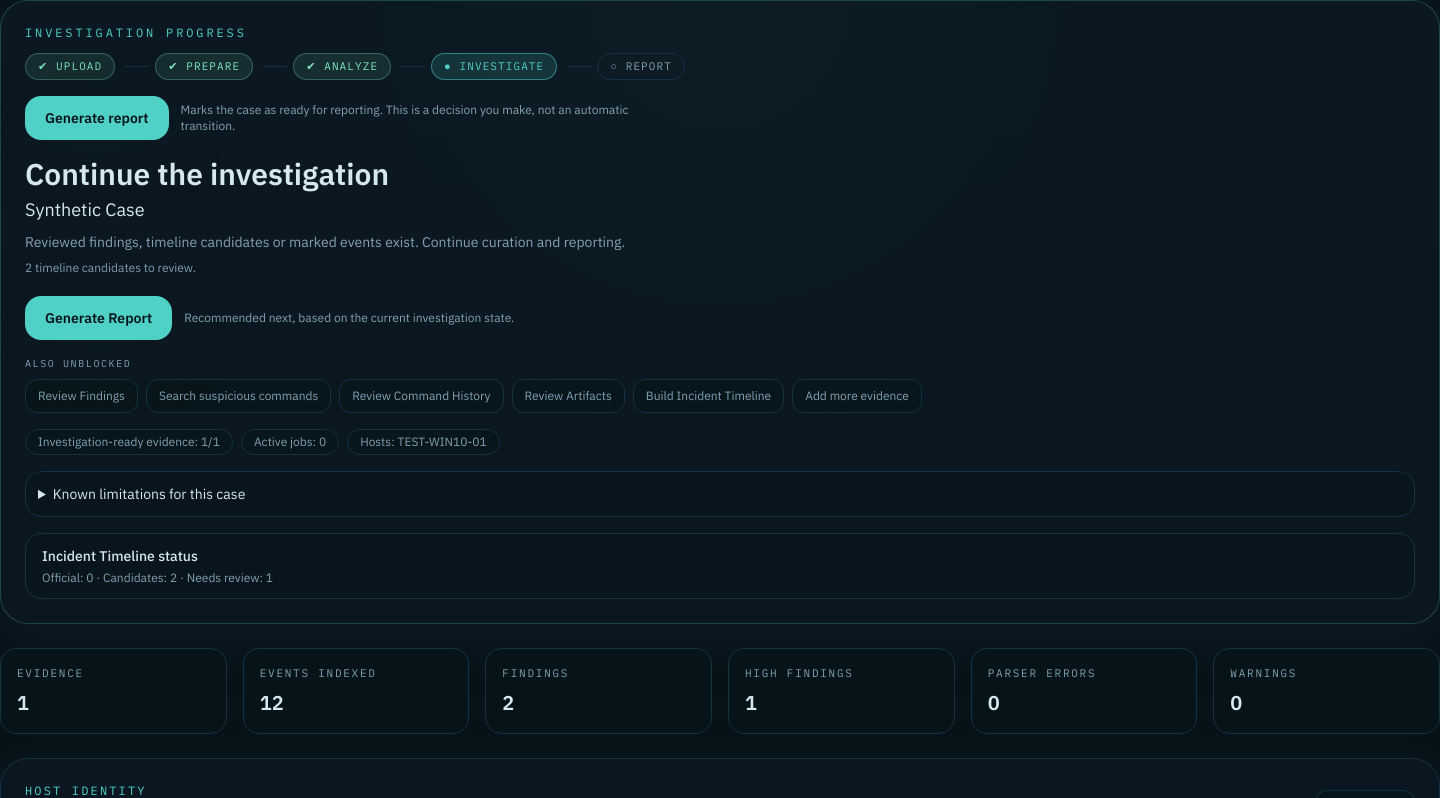
Scenario: CaseOverviewPage › manual INVESTIGATE / REPORT workflow actions › transitions Investigate to Report: persists the override, refetches and updates the stage rail
Click the button with test id "generate-report-action". click: (97, 118)
box: x1=25 y1=96 x2=169 y2=140
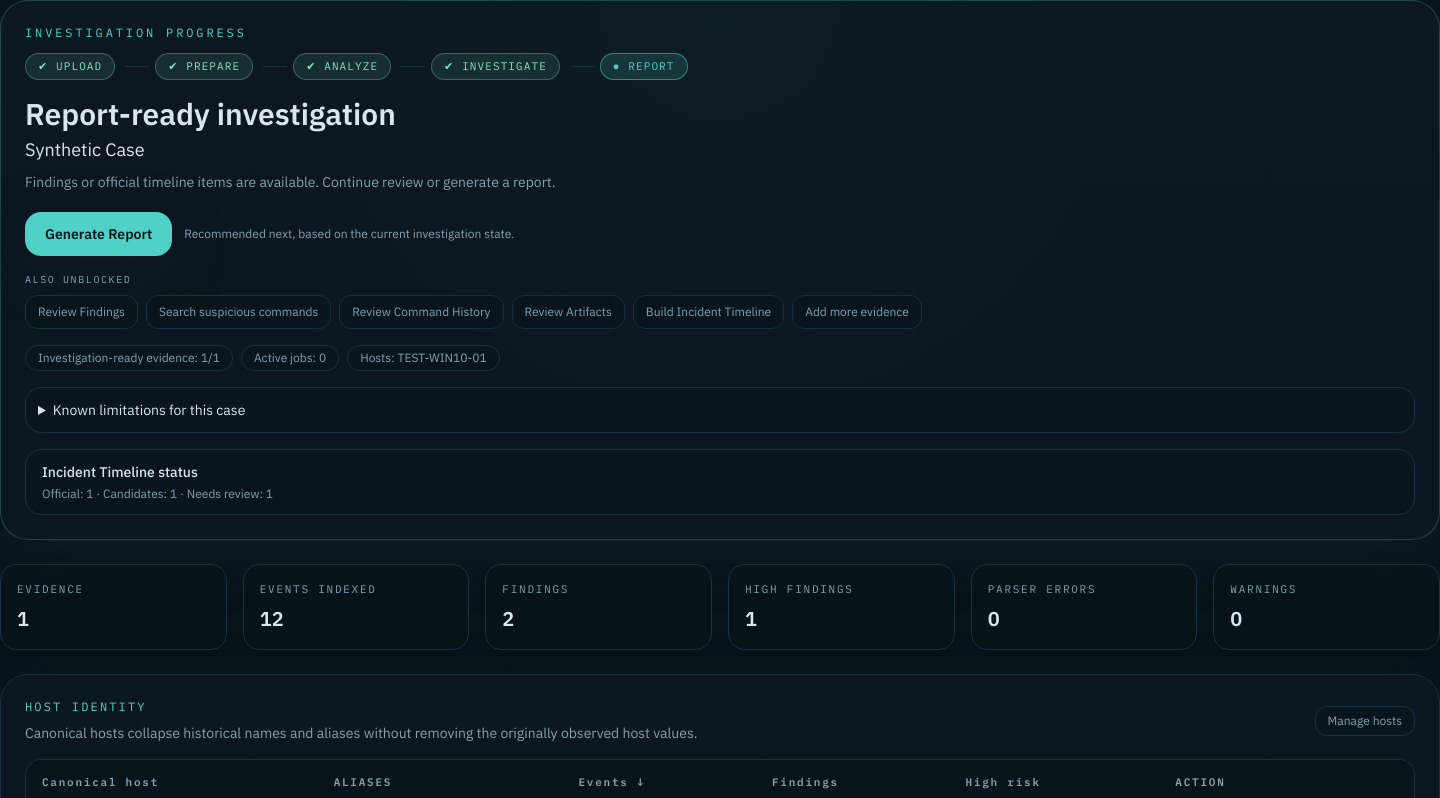
Check: the list with test id "investigation-stage-progress" shows "Report", box x1=628 y1=59 x2=674 y2=73
Check: the heading "Report-ready investigation" is shown, box x1=25 y1=94 x2=396 y2=132
Check: the button with test id "generate-report-action" is gone
